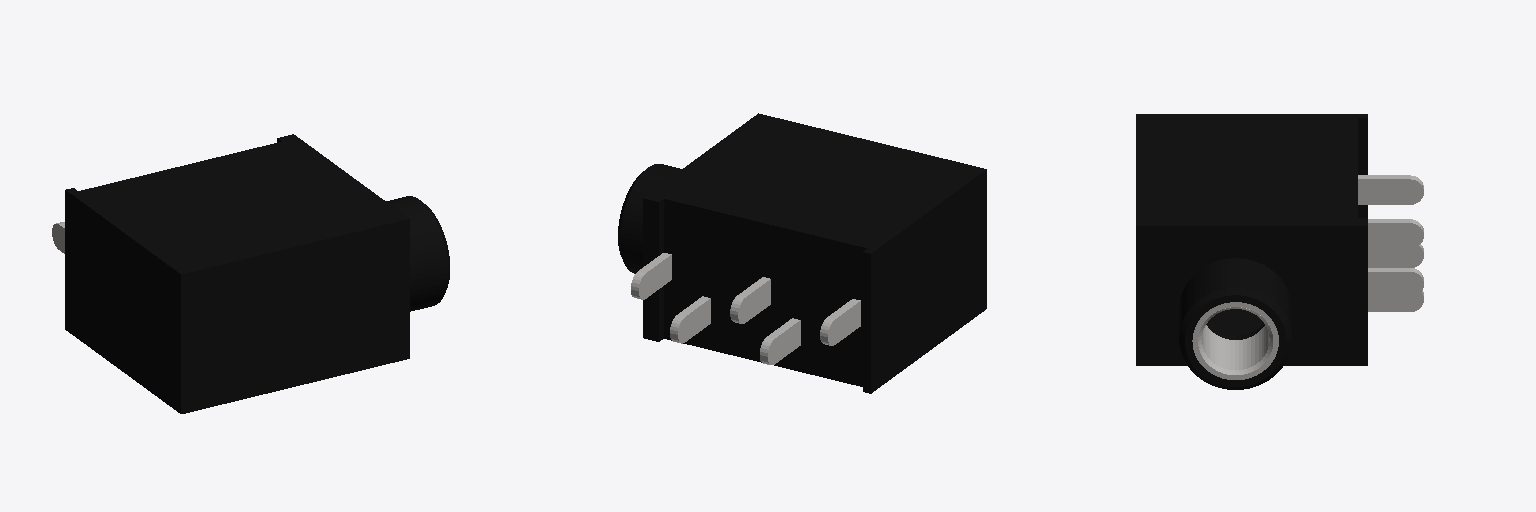
Rendered from plastec_jack.obj.
The picture shows the model from 3 angles: view 1: azimuth 30°, elevation 25°; view 2: azimuth 150°, elevation 25°; view 3: azimuth 270°, elevation 25°; orthographic projection.
Parts seen in each view (by area): view 1: Solid1:1, Solid3:1; view 2: Solid1:1, Solid3:1, Solid3, Solid2, Solid4, Solid5, Solid1; view 3: Solid1:1, Solid3:1, Solid2:1, Solid5, Solid1, Solid4, Solid3, Solid2.
Boxes of the visible parts, x1,y1,x2,y2 form: Solid1:1: [65, 134, 409, 413]; Solid3:1: [386, 196, 449, 311]; Solid1:1: [643, 113, 986, 393]; Solid3:1: [618, 164, 681, 273]; Solid3: [760, 318, 800, 364]; Solid2: [670, 296, 710, 343]; Solid4: [631, 253, 671, 299]; Solid5: [820, 299, 860, 345]; Solid1: [730, 277, 770, 323]; Solid1:1: [1136, 114, 1367, 365]; Solid3:1: [1179, 258, 1291, 389]; Solid2:1: [1192, 302, 1278, 379]; Solid5: [1358, 175, 1423, 204]; Solid1: [1368, 219, 1423, 248]; Solid4: [1368, 268, 1423, 296]; Solid3: [1368, 244, 1423, 267]; Solid2: [1368, 290, 1423, 311].
Bounding box in the file's own units: 18 × 8.2 × 15.3.